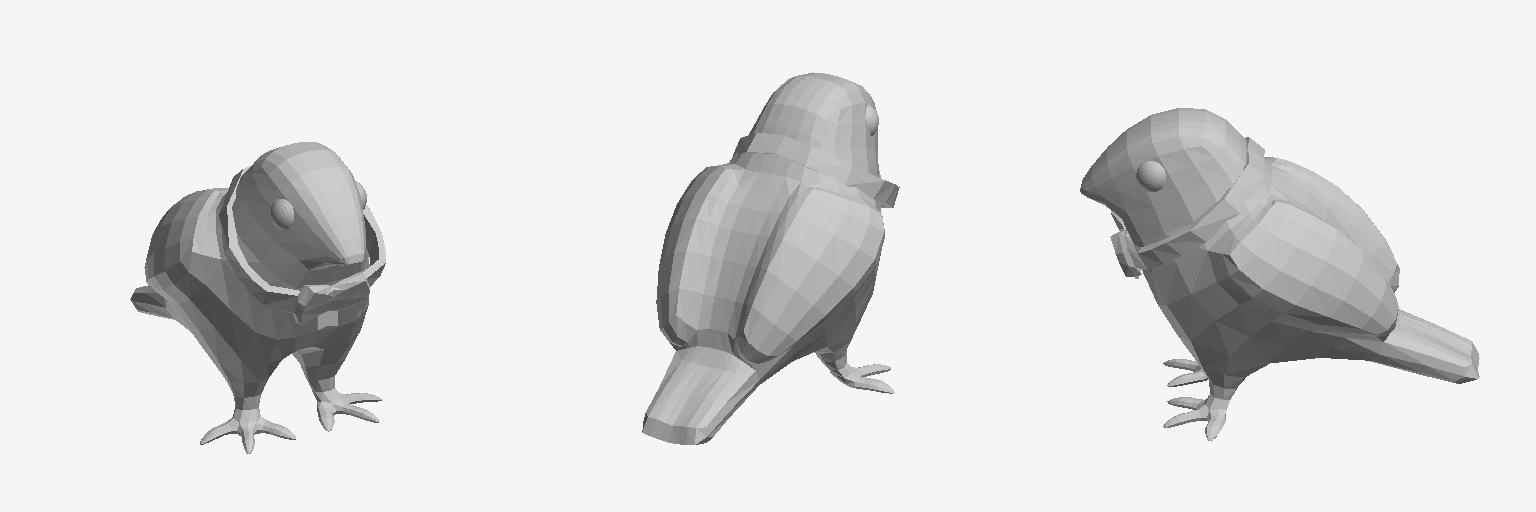
File: tiny-bird.obj
3 renders of one model, left to right at view 1: azimuth 30°, elevation 25°; view 2: azimuth 150°, elevation 25°; view 3: azimuth 270°, elevation 25°, orthographic.
Visible parts, largest first — view 1: Cube_Cube, Cube.001_Cube.001, Sphere_Sphere; view 2: Cube_Cube, Cube.001_Cube.001; view 3: Cube_Cube, Cube.001_Cube.001, Sphere_Sphere.
Boxes of the visible parts, x1,y1,x2,y2 form: Cube_Cube: [130, 142, 381, 453]; Cube.001_Cube.001: [219, 166, 385, 329]; Sphere_Sphere: [270, 181, 366, 229]; Cube_Cube: [642, 72, 894, 444]; Cube.001_Cube.001: [732, 132, 899, 207]; Cube_Cube: [1080, 108, 1479, 440]; Cube.001_Cube.001: [1110, 137, 1264, 278]; Sphere_Sphere: [1136, 161, 1165, 191].
Size of the model in its own units: 0.8651 by 1.18 by 1.51.